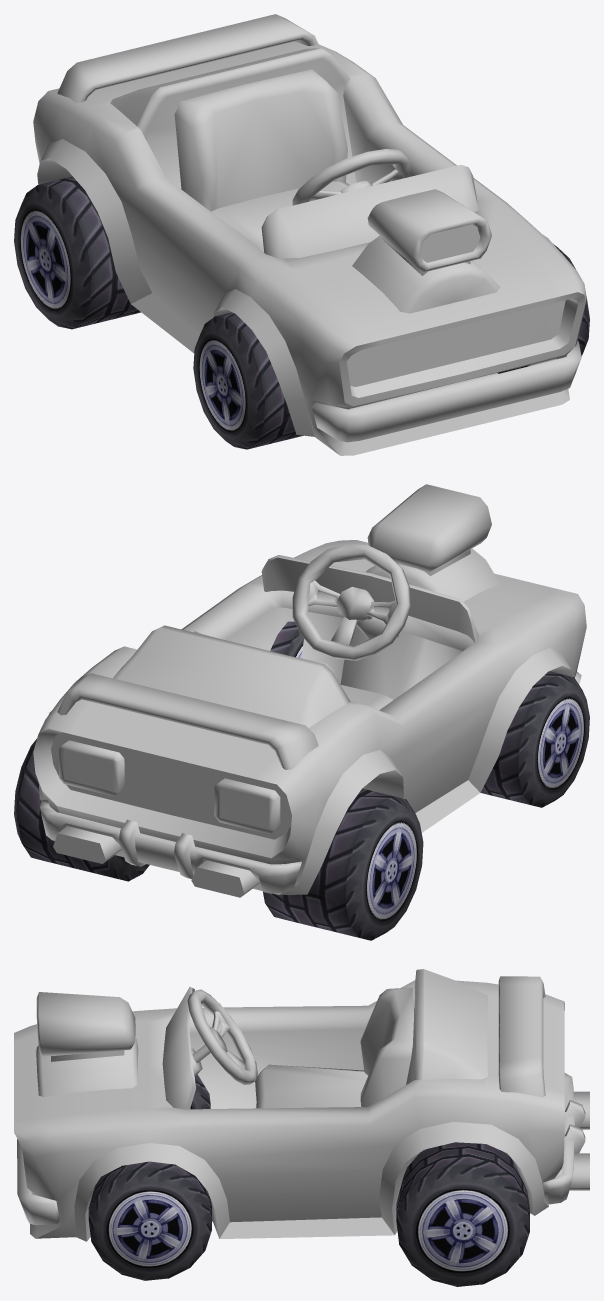
File: Quad_Garage.fbx
The picture shows the model from 3 angles, top to bottom: view 1: azimuth 30°, elevation 25°; view 2: azimuth 150°, elevation 25°; view 3: azimuth 270°, elevation 25°; orthographic projection. The views are drawn at different scales.
Visible parts, largest first — view 1: kartModel, tireTest (1), tireTest (2); view 2: kartModel, tireTest (1), tireTest (2), tireTest, tireTest (3); view 3: kartModel, tireTest, tireTest (3), tireTest (2).
Part boxes in pixels (left/top/right/bottom): kartModel: left=33, top=14, right=586, bottom=455; tireTest (1): left=14, top=176, right=140, bottom=329; tireTest (2): left=193, top=312, right=303, bottom=449; kartModel: left=33, top=484, right=586, bottom=897; tireTest (1): left=263, top=788, right=423, bottom=940; tireTest (2): left=480, top=671, right=589, bottom=807; tireTest: left=14, top=739, right=149, bottom=881; tireTest (3): left=270, top=621, right=303, bottom=657; kartModel: left=14, top=969, right=589, bottom=1241; tireTest: left=396, top=1142, right=529, bottom=1286; tireTest (3): left=88, top=1161, right=211, bottom=1280; tireTest (2): left=190, top=1074, right=210, bottom=1109.
Size of the model in its own units: 1.55 by 1.03 by 2.46.
